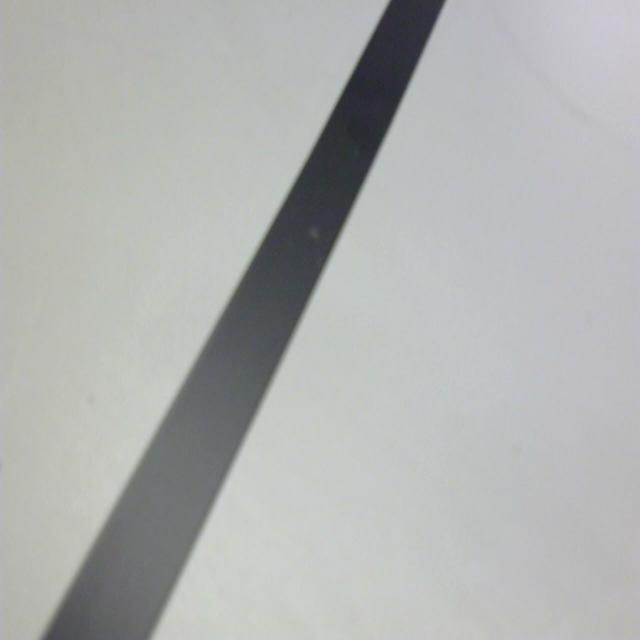tape: (16, 0, 470, 640)
